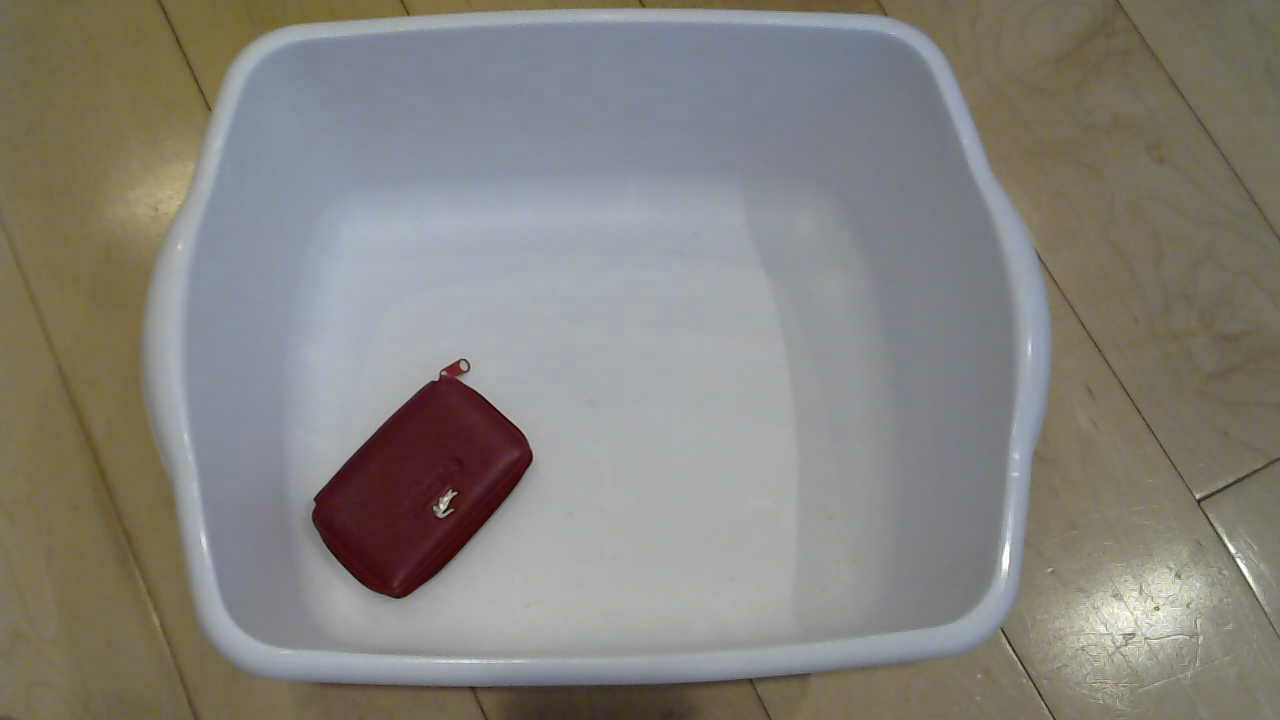wallet: (302, 368, 538, 608)
